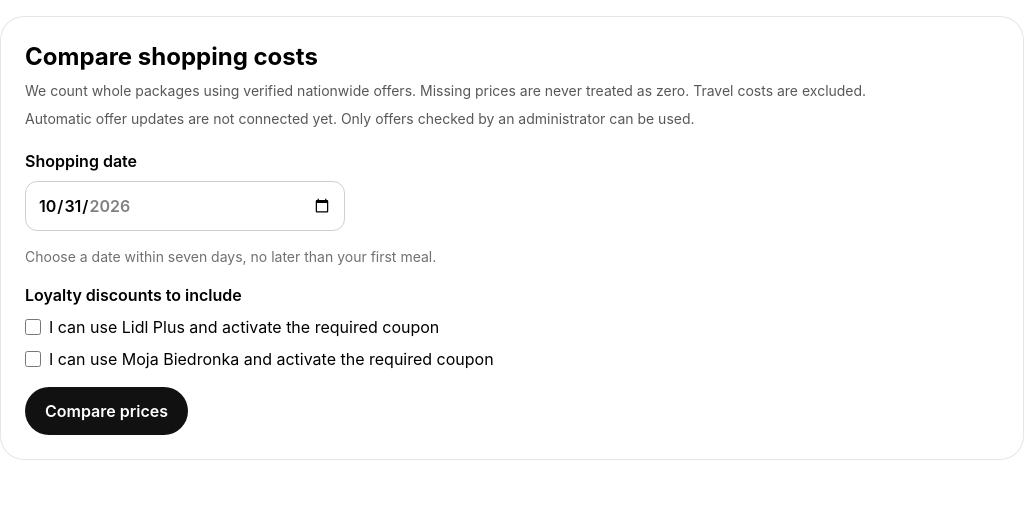
Test: Meal plan pricing › request failure gives a retry without displaying an old result
Click the button "Compare prices": [106, 411] box [25,387,188,435]
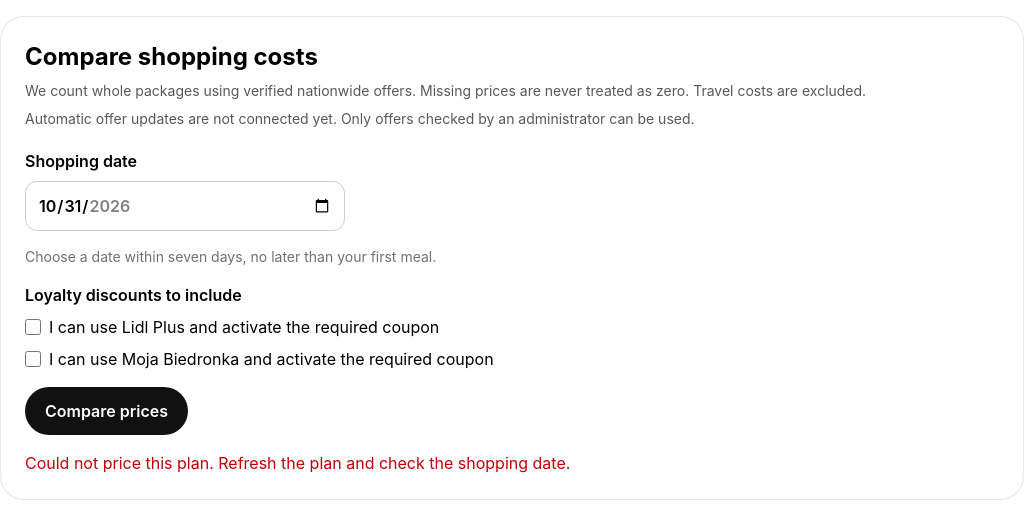
Result: the message shows "Could not price this plan" at [25,453,570,473]
